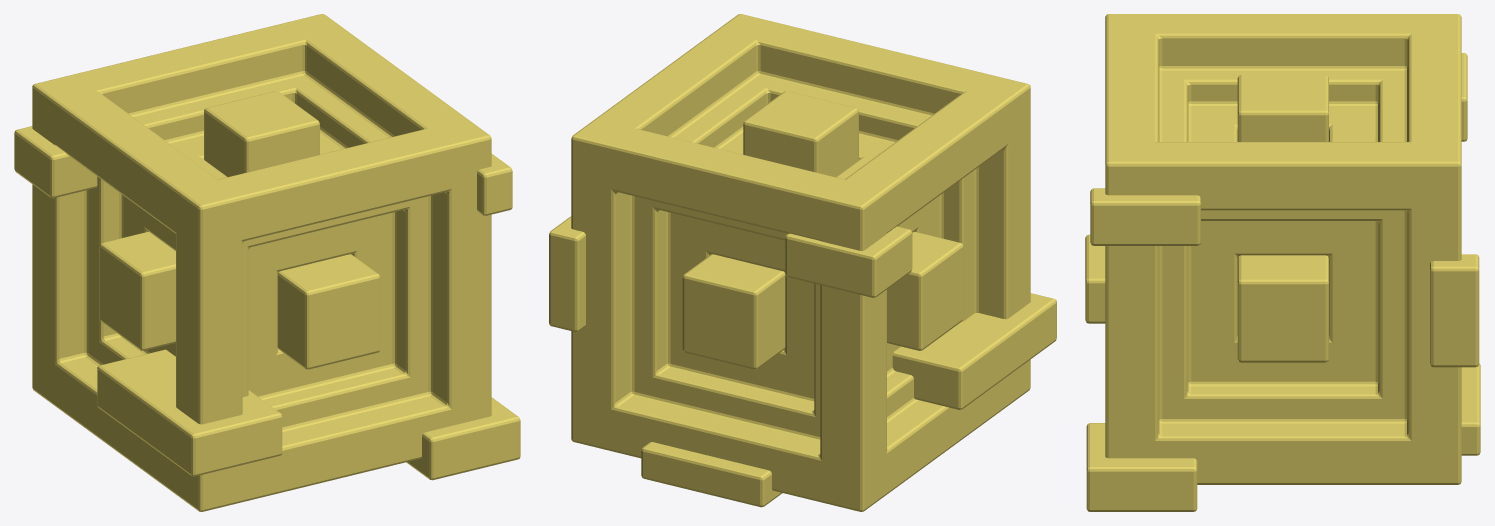
Rendered from CUBES_LVL5.fbx.
3 views of the same model, side by side, from view 1: azimuth 30°, elevation 25°; view 2: azimuth 150°, elevation 25°; view 3: azimuth 270°, elevation 25° (orthographic). The views are drawn at different scales.
Visible parts, largest first — view 1: Cube.045; view 2: Cube.045; view 3: Cube.045.
Part boxes in pixels (x1=…): Cube.045: x1=14, y1=14, x2=520, y2=511; Cube.045: x1=549, y1=14, x2=1056, y2=511; Cube.045: x1=1085, y1=14, x2=1480, y2=511.
Size of the model in its own units: 113 by 105 by 111.
